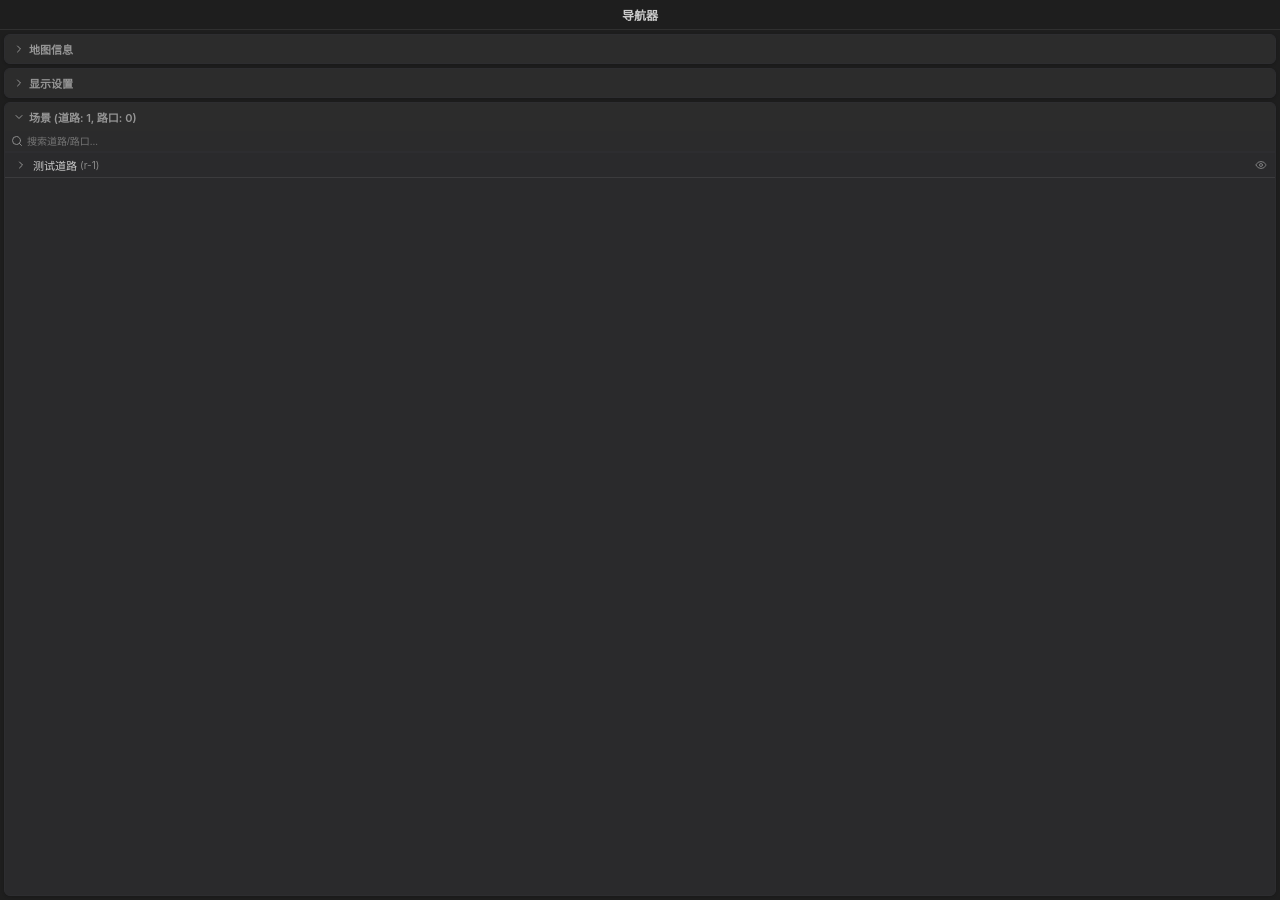
LayerPanel › shows no-results message when nothing matches
This screenshot has width=1280, height=900.
Type "xyz-不存在" into the field with placeholder "搜索道路/路口..." at (648, 141), box [27,136,1269,146]
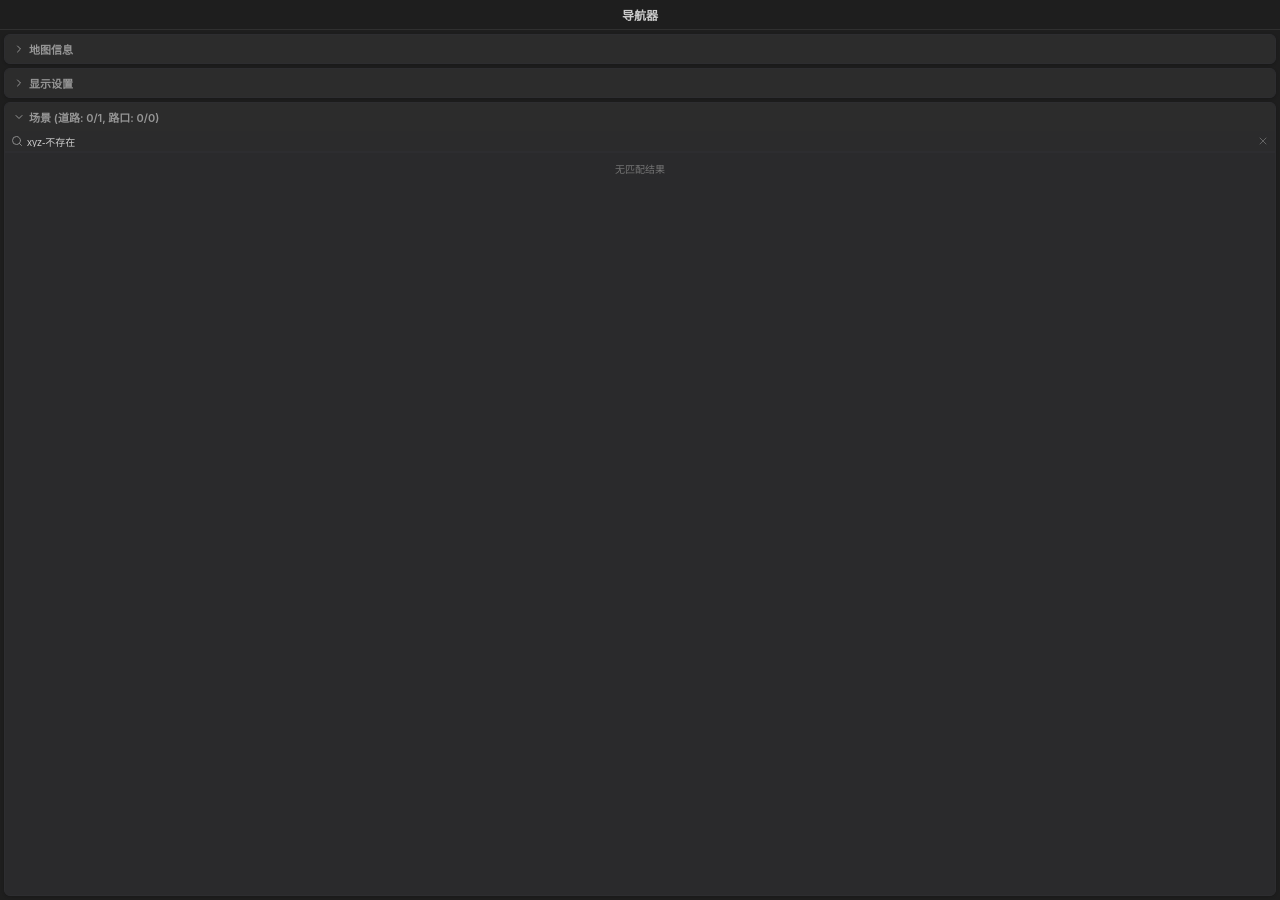
Check: the text "测试道路" is gone
Check: the text "无匹配结果" is shown, box [615,163,665,175]
